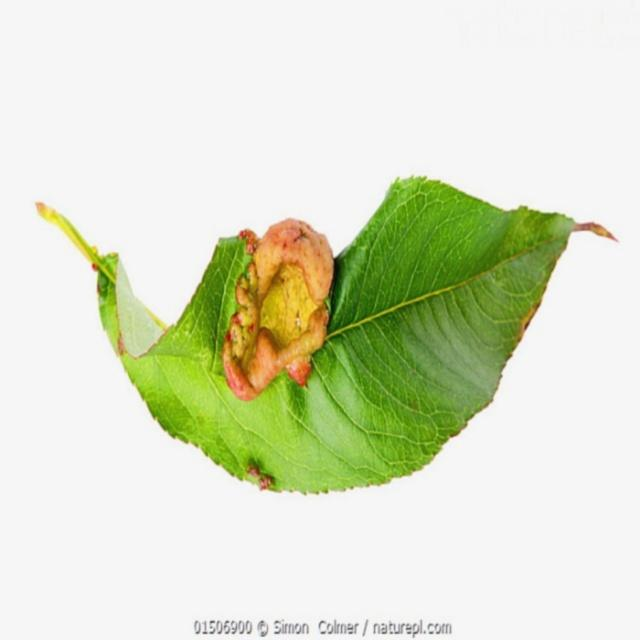leaf_curl: (74, 163, 618, 508)
